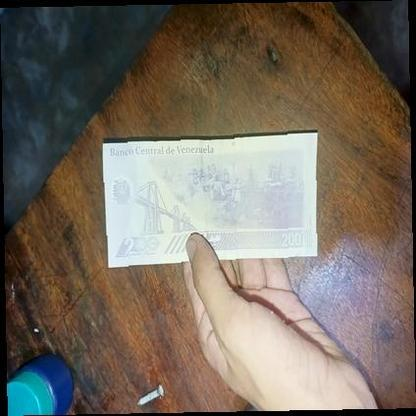two_hundred-back-vef: (102, 131, 322, 271)
